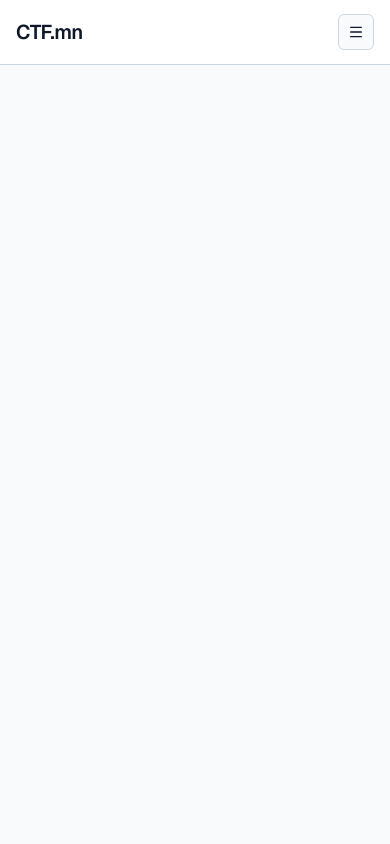
it: AppHeader › opens mobile menu with all nav actions
Click the button named "Open menu" at (356, 32), box [338, 14, 374, 50]
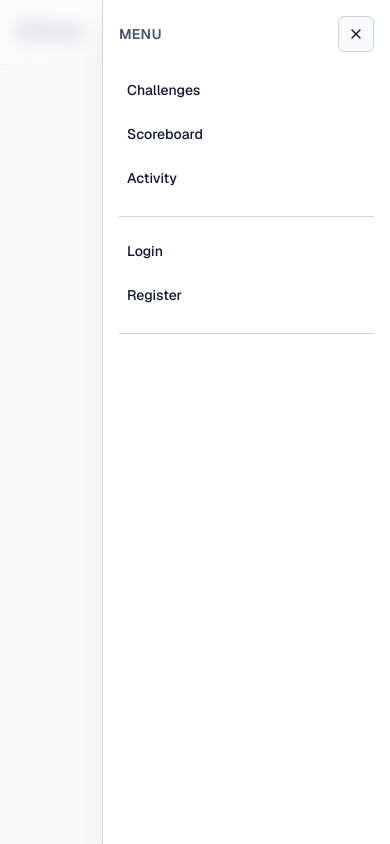
Expected: the dialog "Menu" is shown
Expected: the link "Challenges" is shown, [127, 81, 200, 99]
Expected: the link "Scoreboard" is shown, [127, 125, 203, 143]
